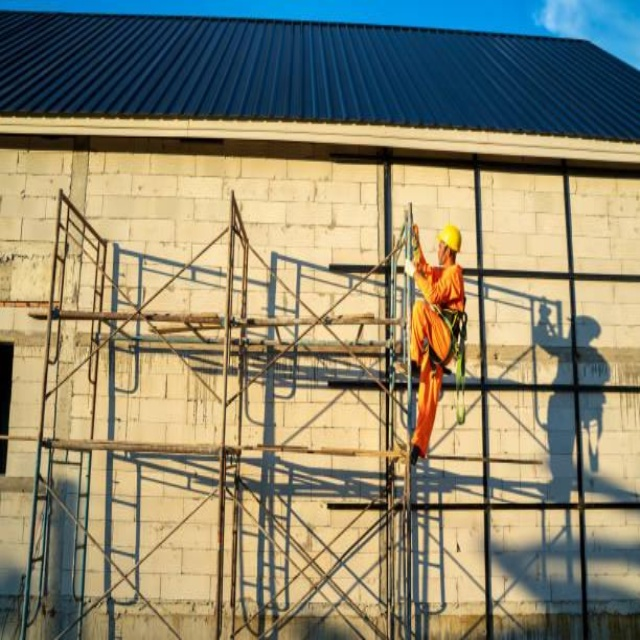Arnes_seguridad: (421, 265, 468, 423)
